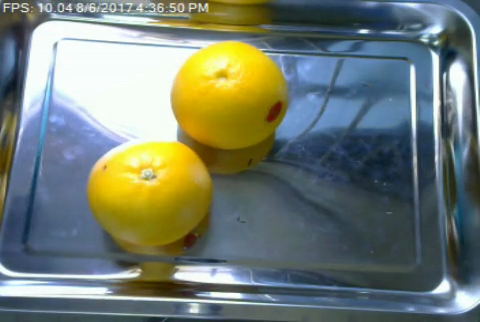Orange: (83, 137, 211, 245), (169, 42, 289, 150)
